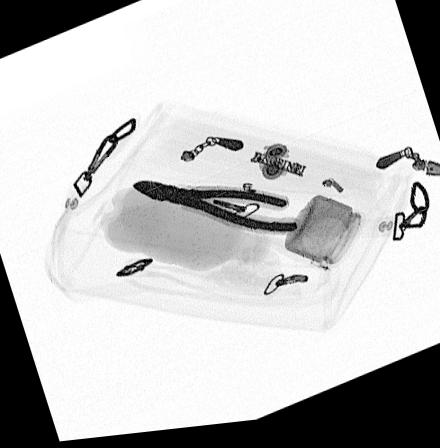Pliers: (124, 180, 301, 241)
